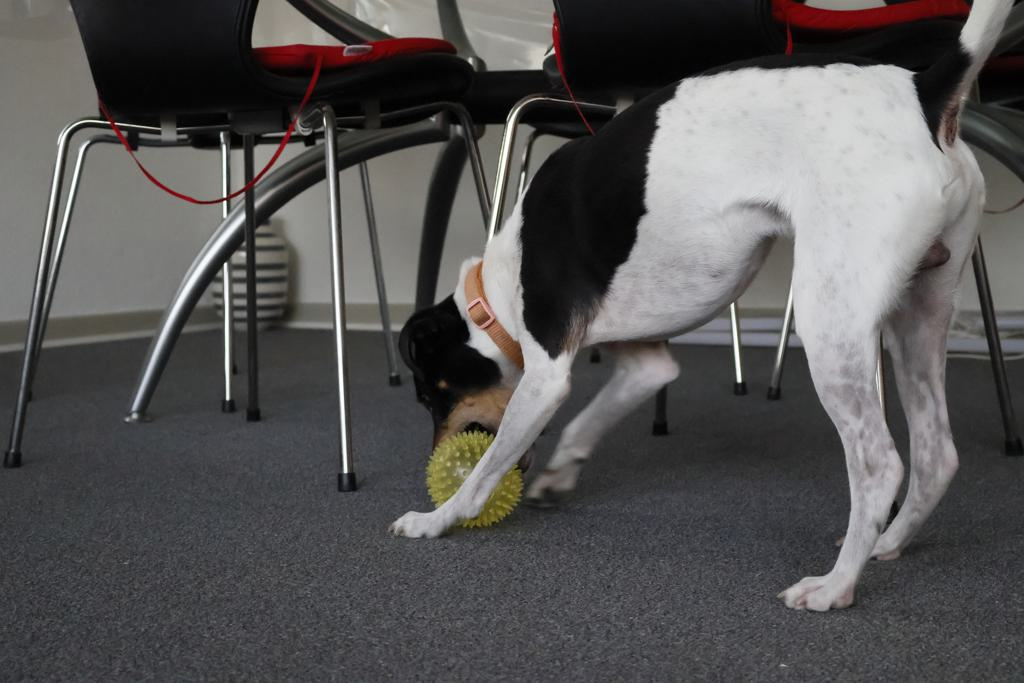Dog: (383, 0, 1019, 625)
